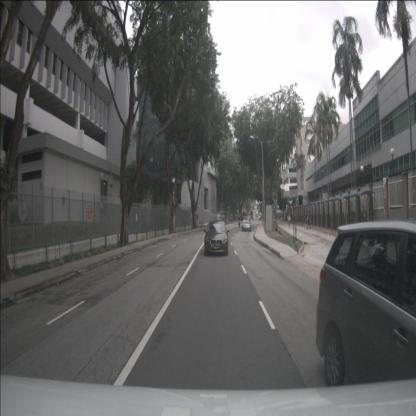human-pedestrian-adult: (306, 212, 311, 229), (287, 213, 291, 229), (285, 211, 288, 222)
vehicle-car: (316, 220, 416, 416), (204, 220, 228, 256), (242, 218, 251, 232)
vehicle-motorcycle: (237, 216, 241, 228)
